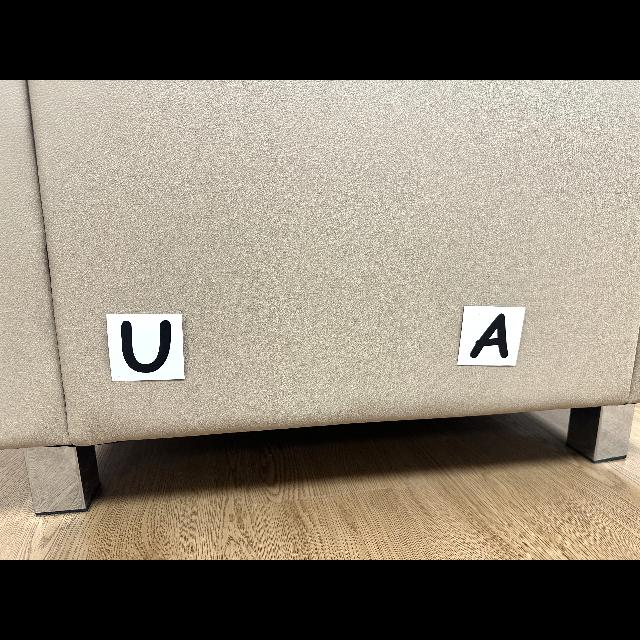A: (470, 314, 509, 359)
U: (121, 320, 171, 372)
